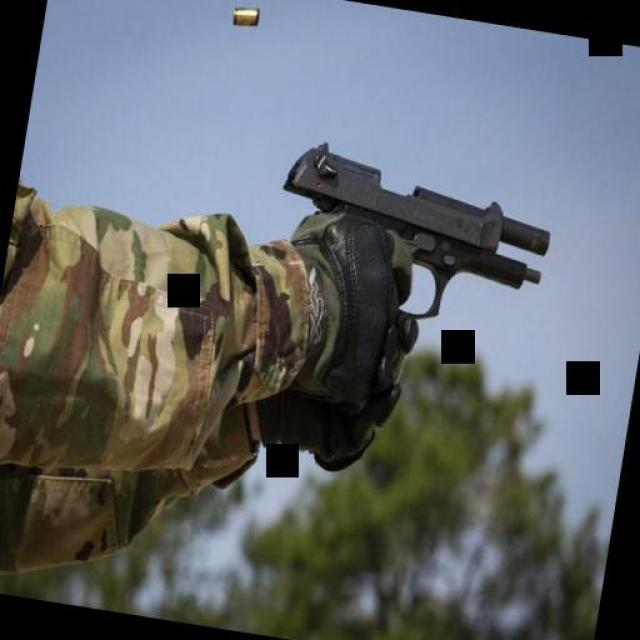gun: (261, 132, 559, 358)
